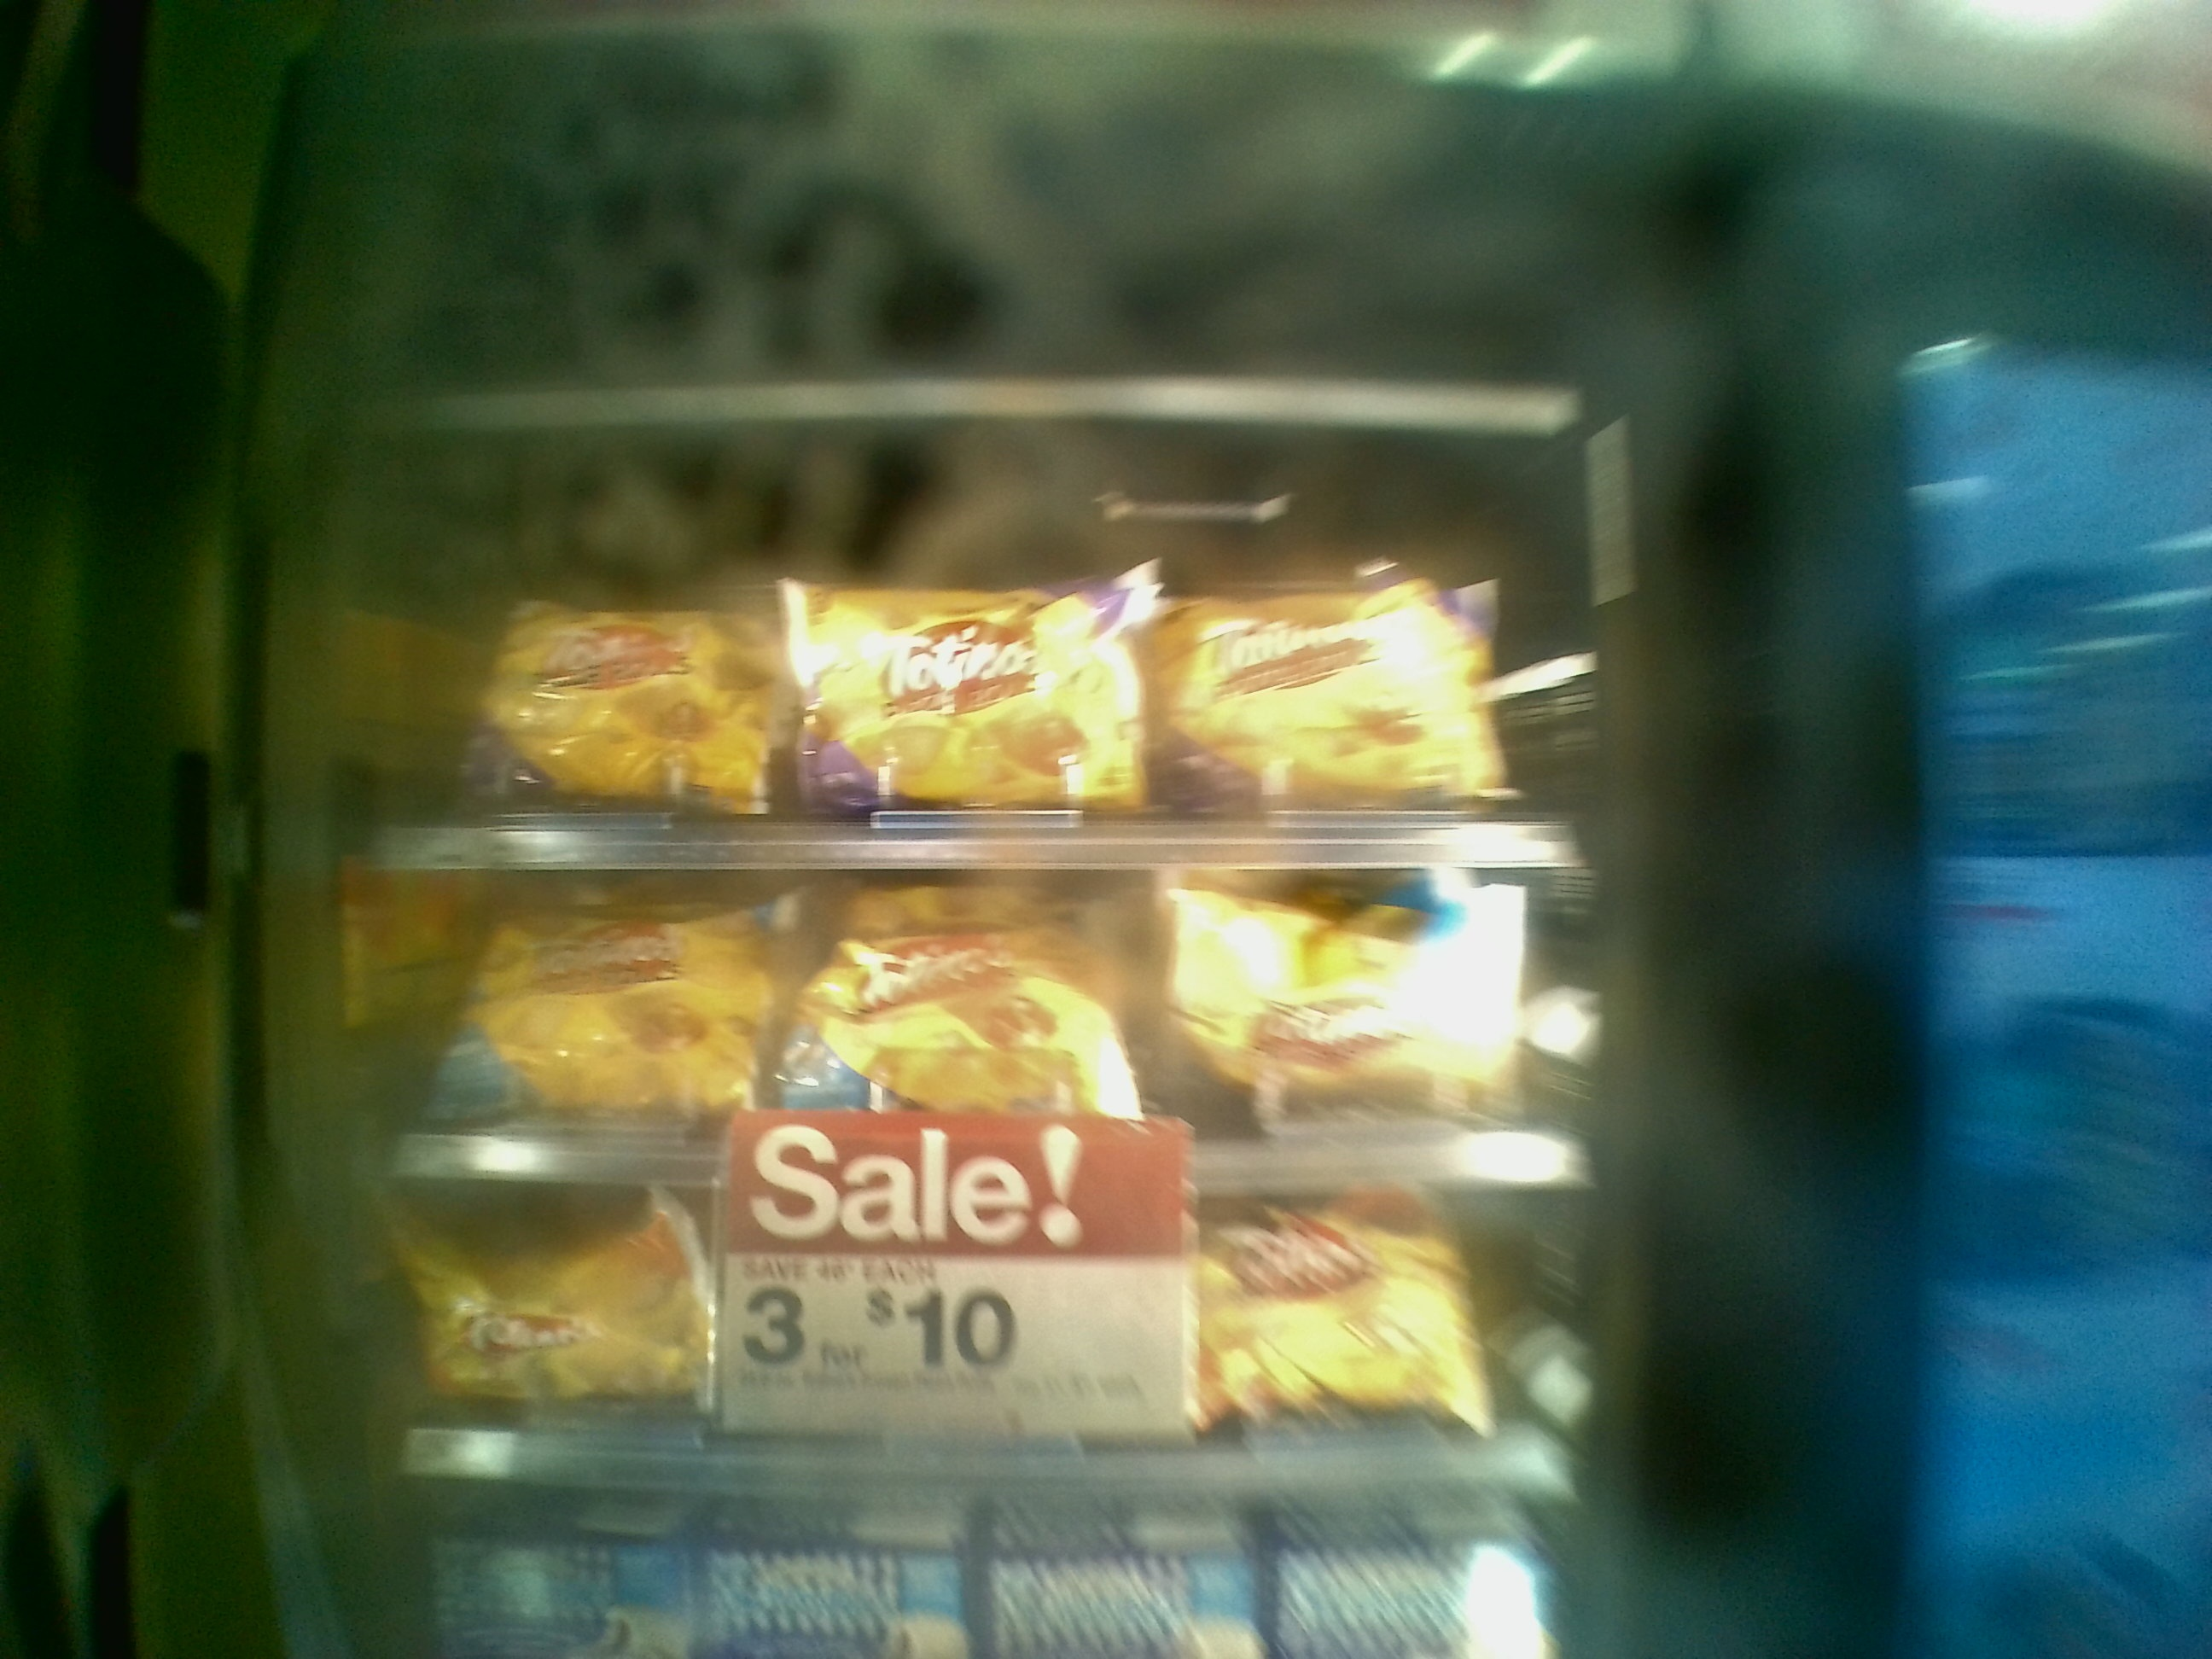shelf: (350, 838, 1576, 1176), (366, 1154, 1583, 1490), (329, 519, 1581, 845)
